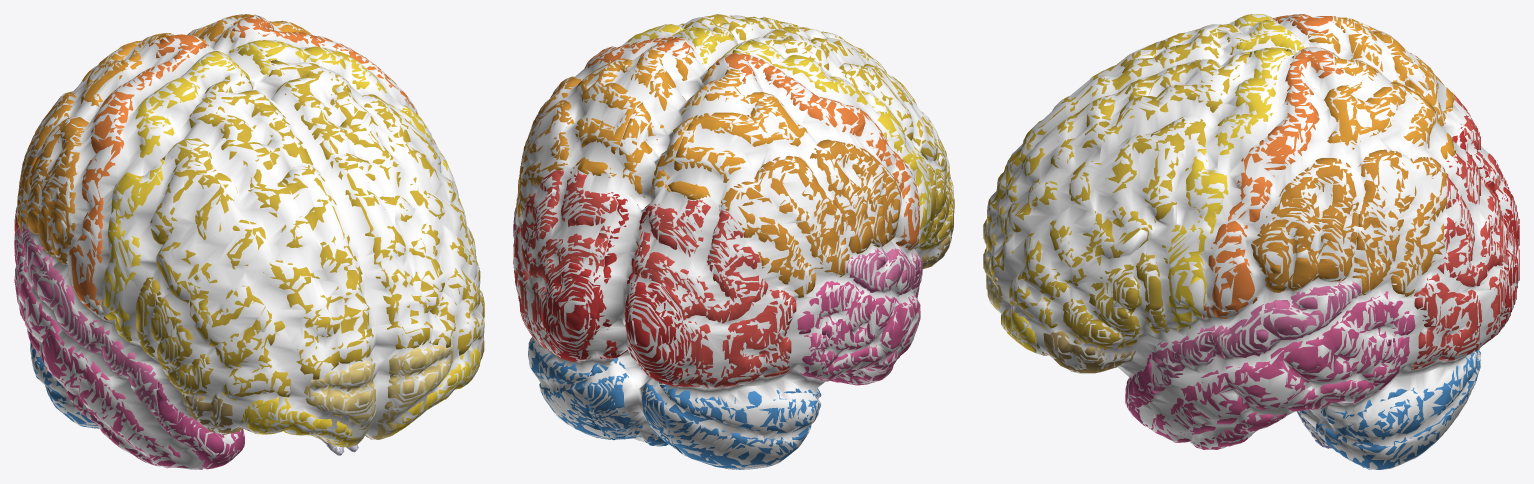
The model's file is brain.glb.
3 renders of one model, left to right at view 1: azimuth 30°, elevation 25°; view 2: azimuth 150°, elevation 25°; view 3: azimuth 270°, elevation 25°, orthographic. The views are drawn at different scales.
Parts seen in each view (by area): view 1: __outline, SFG, MFG, PrCG, PoCG, FP, MTG, SMG, STG, FMG, IFGtr, TP (+7 smaller); view 2: __outline, SOG, SPL, AnG, OP, CBL, IOG, SMG, PoCG, MTG, PrCG, CBPV (+7 smaller); view 3: __outline, MTG, SFG, SMG, PoCG, MFG, PrCG, STG, AnG, SPL, CBL, SOG (+11 smaller).
Boxes of the visible parts, x1,y1,x2,y2 form: __outline: (14, 14, 484, 469); SFG: (189, 60, 456, 379); MFG: (150, 94, 484, 400); PrCG: (103, 40, 455, 343); PoCG: (68, 15, 435, 320); FP: (304, 344, 453, 446); MTG: (14, 228, 202, 469); SMG: (26, 76, 396, 264); STG: (21, 224, 158, 420); FMG: (243, 347, 480, 447); IFGtr: (151, 226, 484, 396); TP: (156, 381, 244, 469); __outline: (513, 14, 954, 469); SOG: (521, 167, 768, 323); SPL: (575, 49, 807, 200); AnG: (516, 100, 849, 297); OP: (541, 263, 687, 385); CBL: (528, 337, 821, 469); IOG: (513, 226, 796, 388); SMG: (530, 76, 901, 254); PoCG: (584, 37, 919, 250); MTG: (513, 208, 920, 359); PrCG: (627, 24, 930, 248); CBPV: (587, 358, 685, 455); __outline: (984, 14, 1519, 469); MTG: (1145, 291, 1415, 442); SFG: (987, 24, 1249, 275); SMG: (1251, 158, 1358, 292); PoCG: (1202, 14, 1343, 319); MFG: (1009, 117, 1205, 328); PrCG: (1162, 14, 1296, 331); STG: (1152, 281, 1360, 393); AnG: (1352, 75, 1446, 296); SPL: (1324, 16, 1455, 159); CBL: (1299, 351, 1480, 469); SOG: (1437, 95, 1503, 286).
Bounding box in the file's own units: 145 × 154 × 181.
